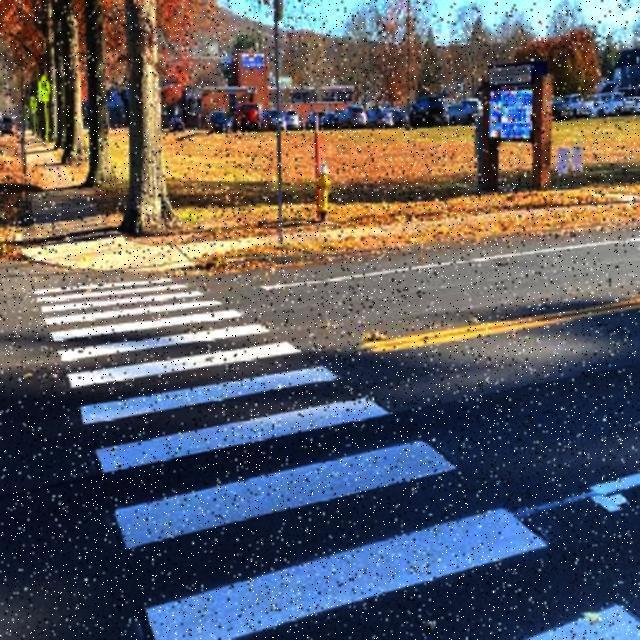crosswalk: (35, 277, 640, 639)
